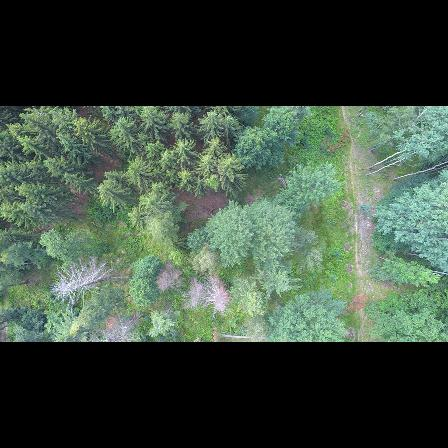Dead: (48, 262, 114, 307), (98, 311, 144, 343), (209, 274, 233, 312), (154, 266, 182, 293), (182, 280, 203, 310)
